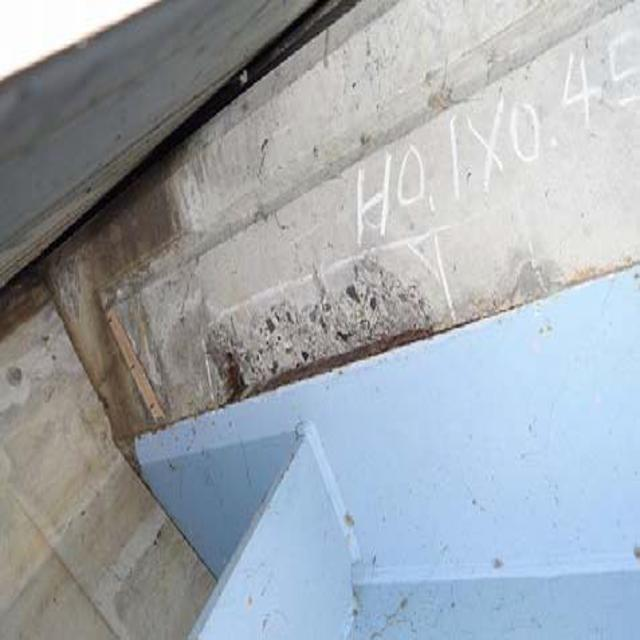spalling: (194, 267, 453, 407)
